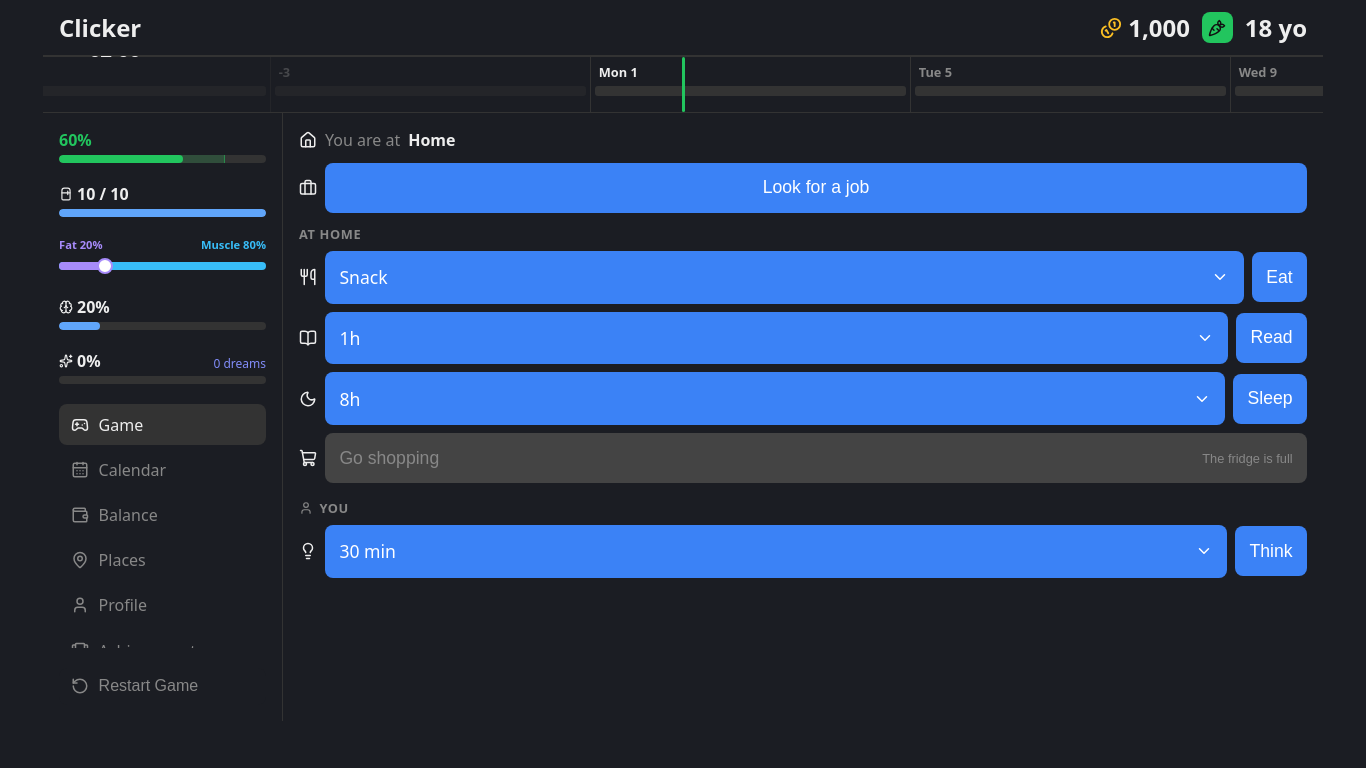
Test: the sidebar opens the profile page, with the stats of the player
The width and height of the screenshot is (1366, 768).
Click the link "Profile": (109, 605) [71,594,147,616]
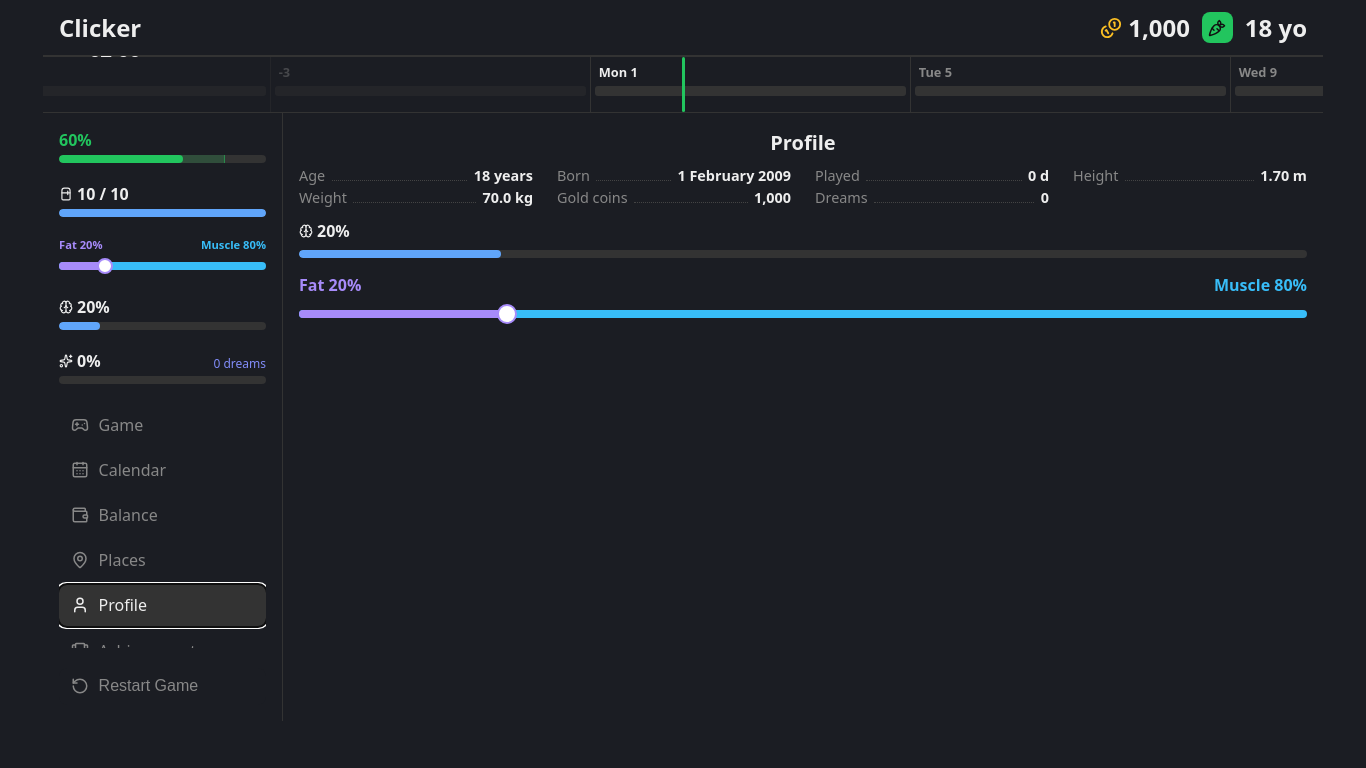
Now the heading "Profile" is shown, box [770,129,836,156]
Now the text "Dreams" is shown, box [815,188,868,207]
Now the text "Height" is shown, box [1073,166,1118,185]
